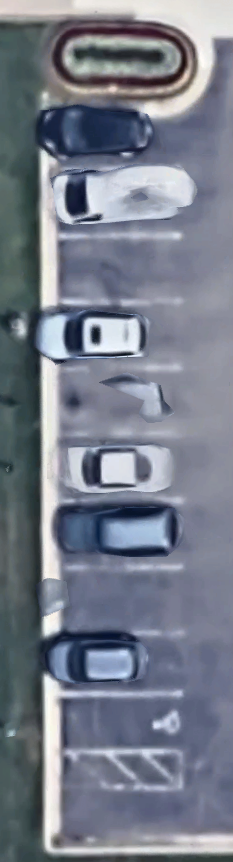Occupied: (45, 167, 182, 237), (47, 436, 182, 503), (47, 303, 182, 369), (47, 369, 182, 435), (48, 504, 183, 567), (47, 634, 184, 696), (46, 107, 181, 167)
Vacant: (48, 567, 183, 634), (45, 237, 181, 303), (47, 695, 183, 753), (49, 788, 182, 840)
